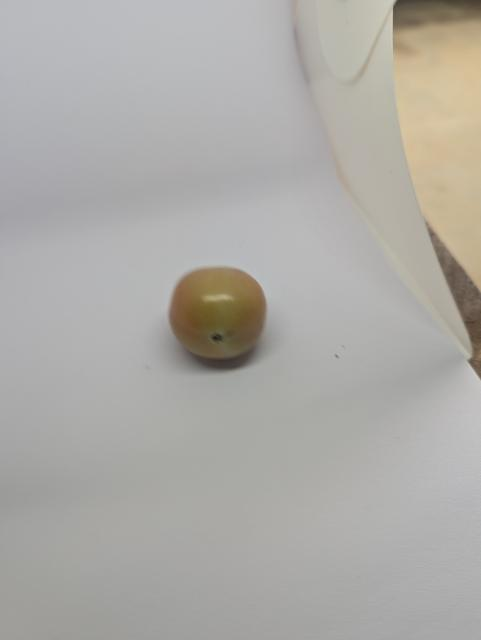breaker: (162, 265, 275, 364)
